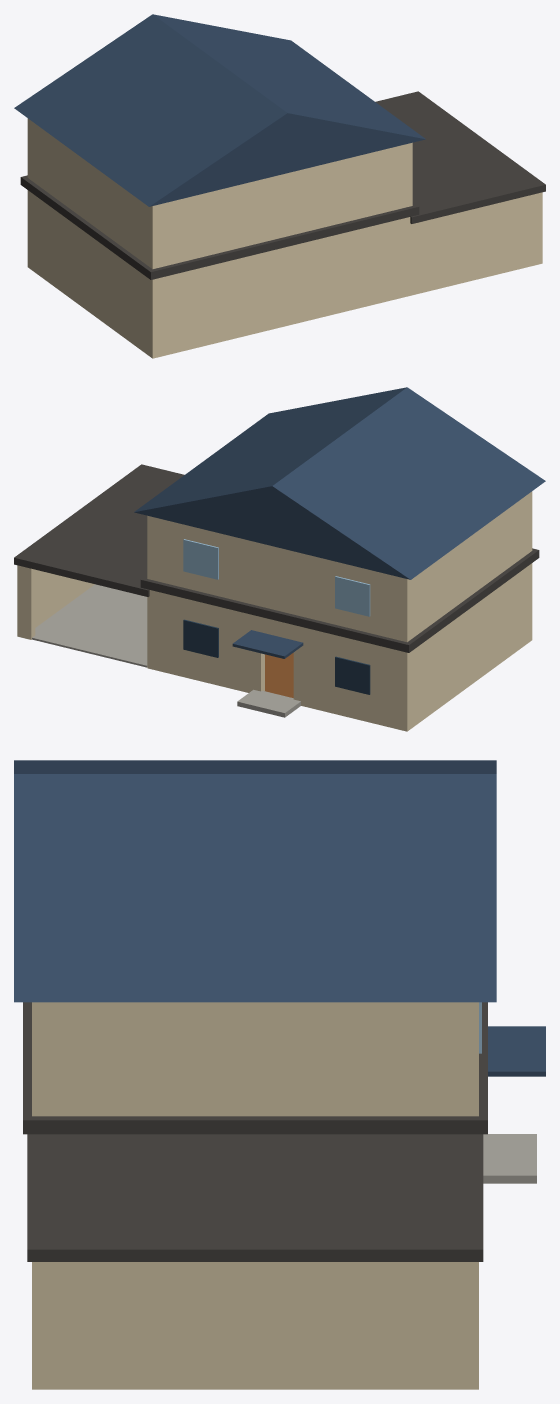
Rendered from bld_safehouse.glb.
3 renders of one model, top to bottom at view 1: azimuth 30°, elevation 25°; view 2: azimuth 150°, elevation 25°; view 3: azimuth 270°, elevation 25°, orthographic. The views are drawn at different scales.
Parts seen in each view (by area): view 1: bld_safehouse__mesh; view 2: bld_safehouse__mesh; view 3: bld_safehouse__mesh.
Part boxes in pixels (box(x1,y1,x2,y2)): bld_safehouse__mesh: box(14, 14, 545, 358); bld_safehouse__mesh: box(14, 387, 545, 731); bld_safehouse__mesh: box(14, 760, 545, 1389).
Bounding box in the file's own units: 18.5 × 9.6 × 11.9.
